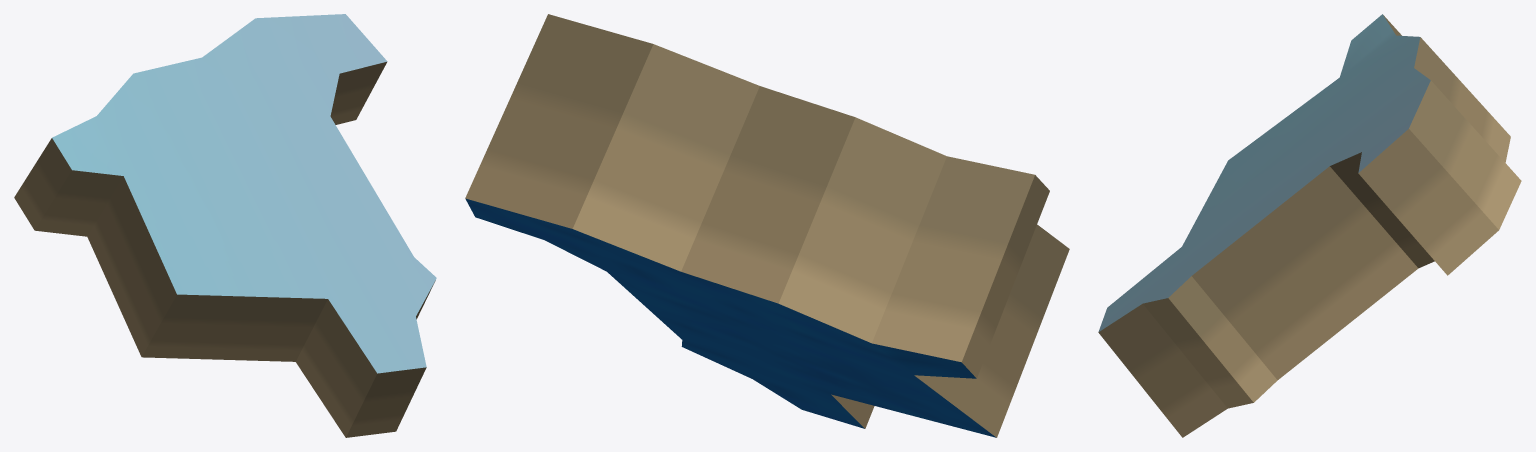
File: 0677_Spain.glb
3 renders of one model, left to right at view 1: azimuth 30°, elevation 25°; view 2: azimuth 150°, elevation 25°; view 3: azimuth 270°, elevation 25°, orthographic. The views are drawn at different scales.
Parts seen in each view (by area): view 1: part_0; view 2: part_0; view 3: part_0.
Boxes of the visible parts, x1,y1,x2,y2 form: part_0: (14,14,436,437); part_0: (465,14,1069,437); part_0: (1098,14,1521,437).
Bounding box in the file's own units: 0.5793 × 0.5475 × 0.606.
1 material, 1 textured.
